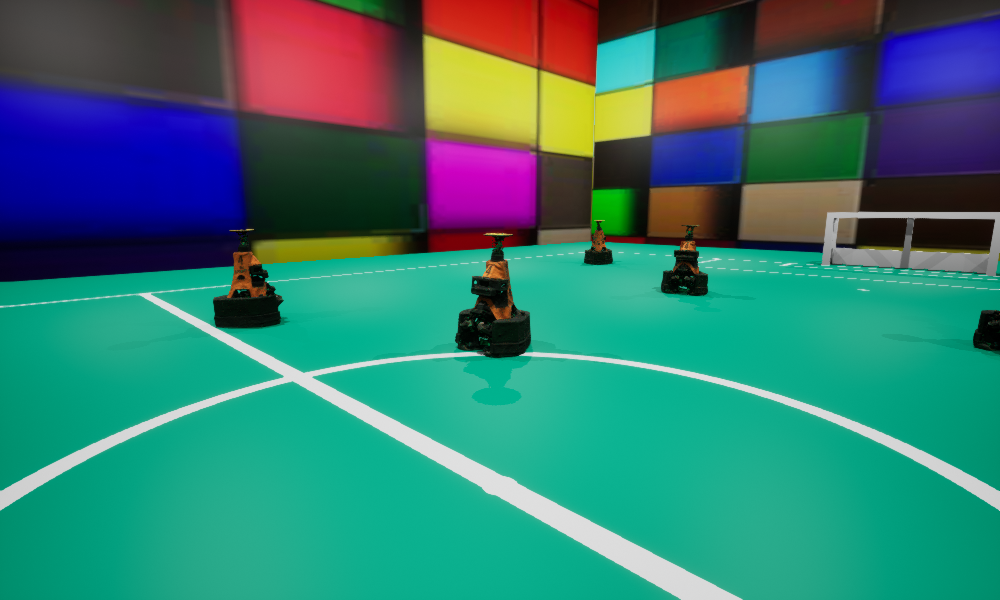0 orange robot TechUnited: (455, 233, 530, 356), (213, 229, 283, 327), (661, 225, 707, 294), (584, 220, 612, 264), (973, 310, 999, 350)
